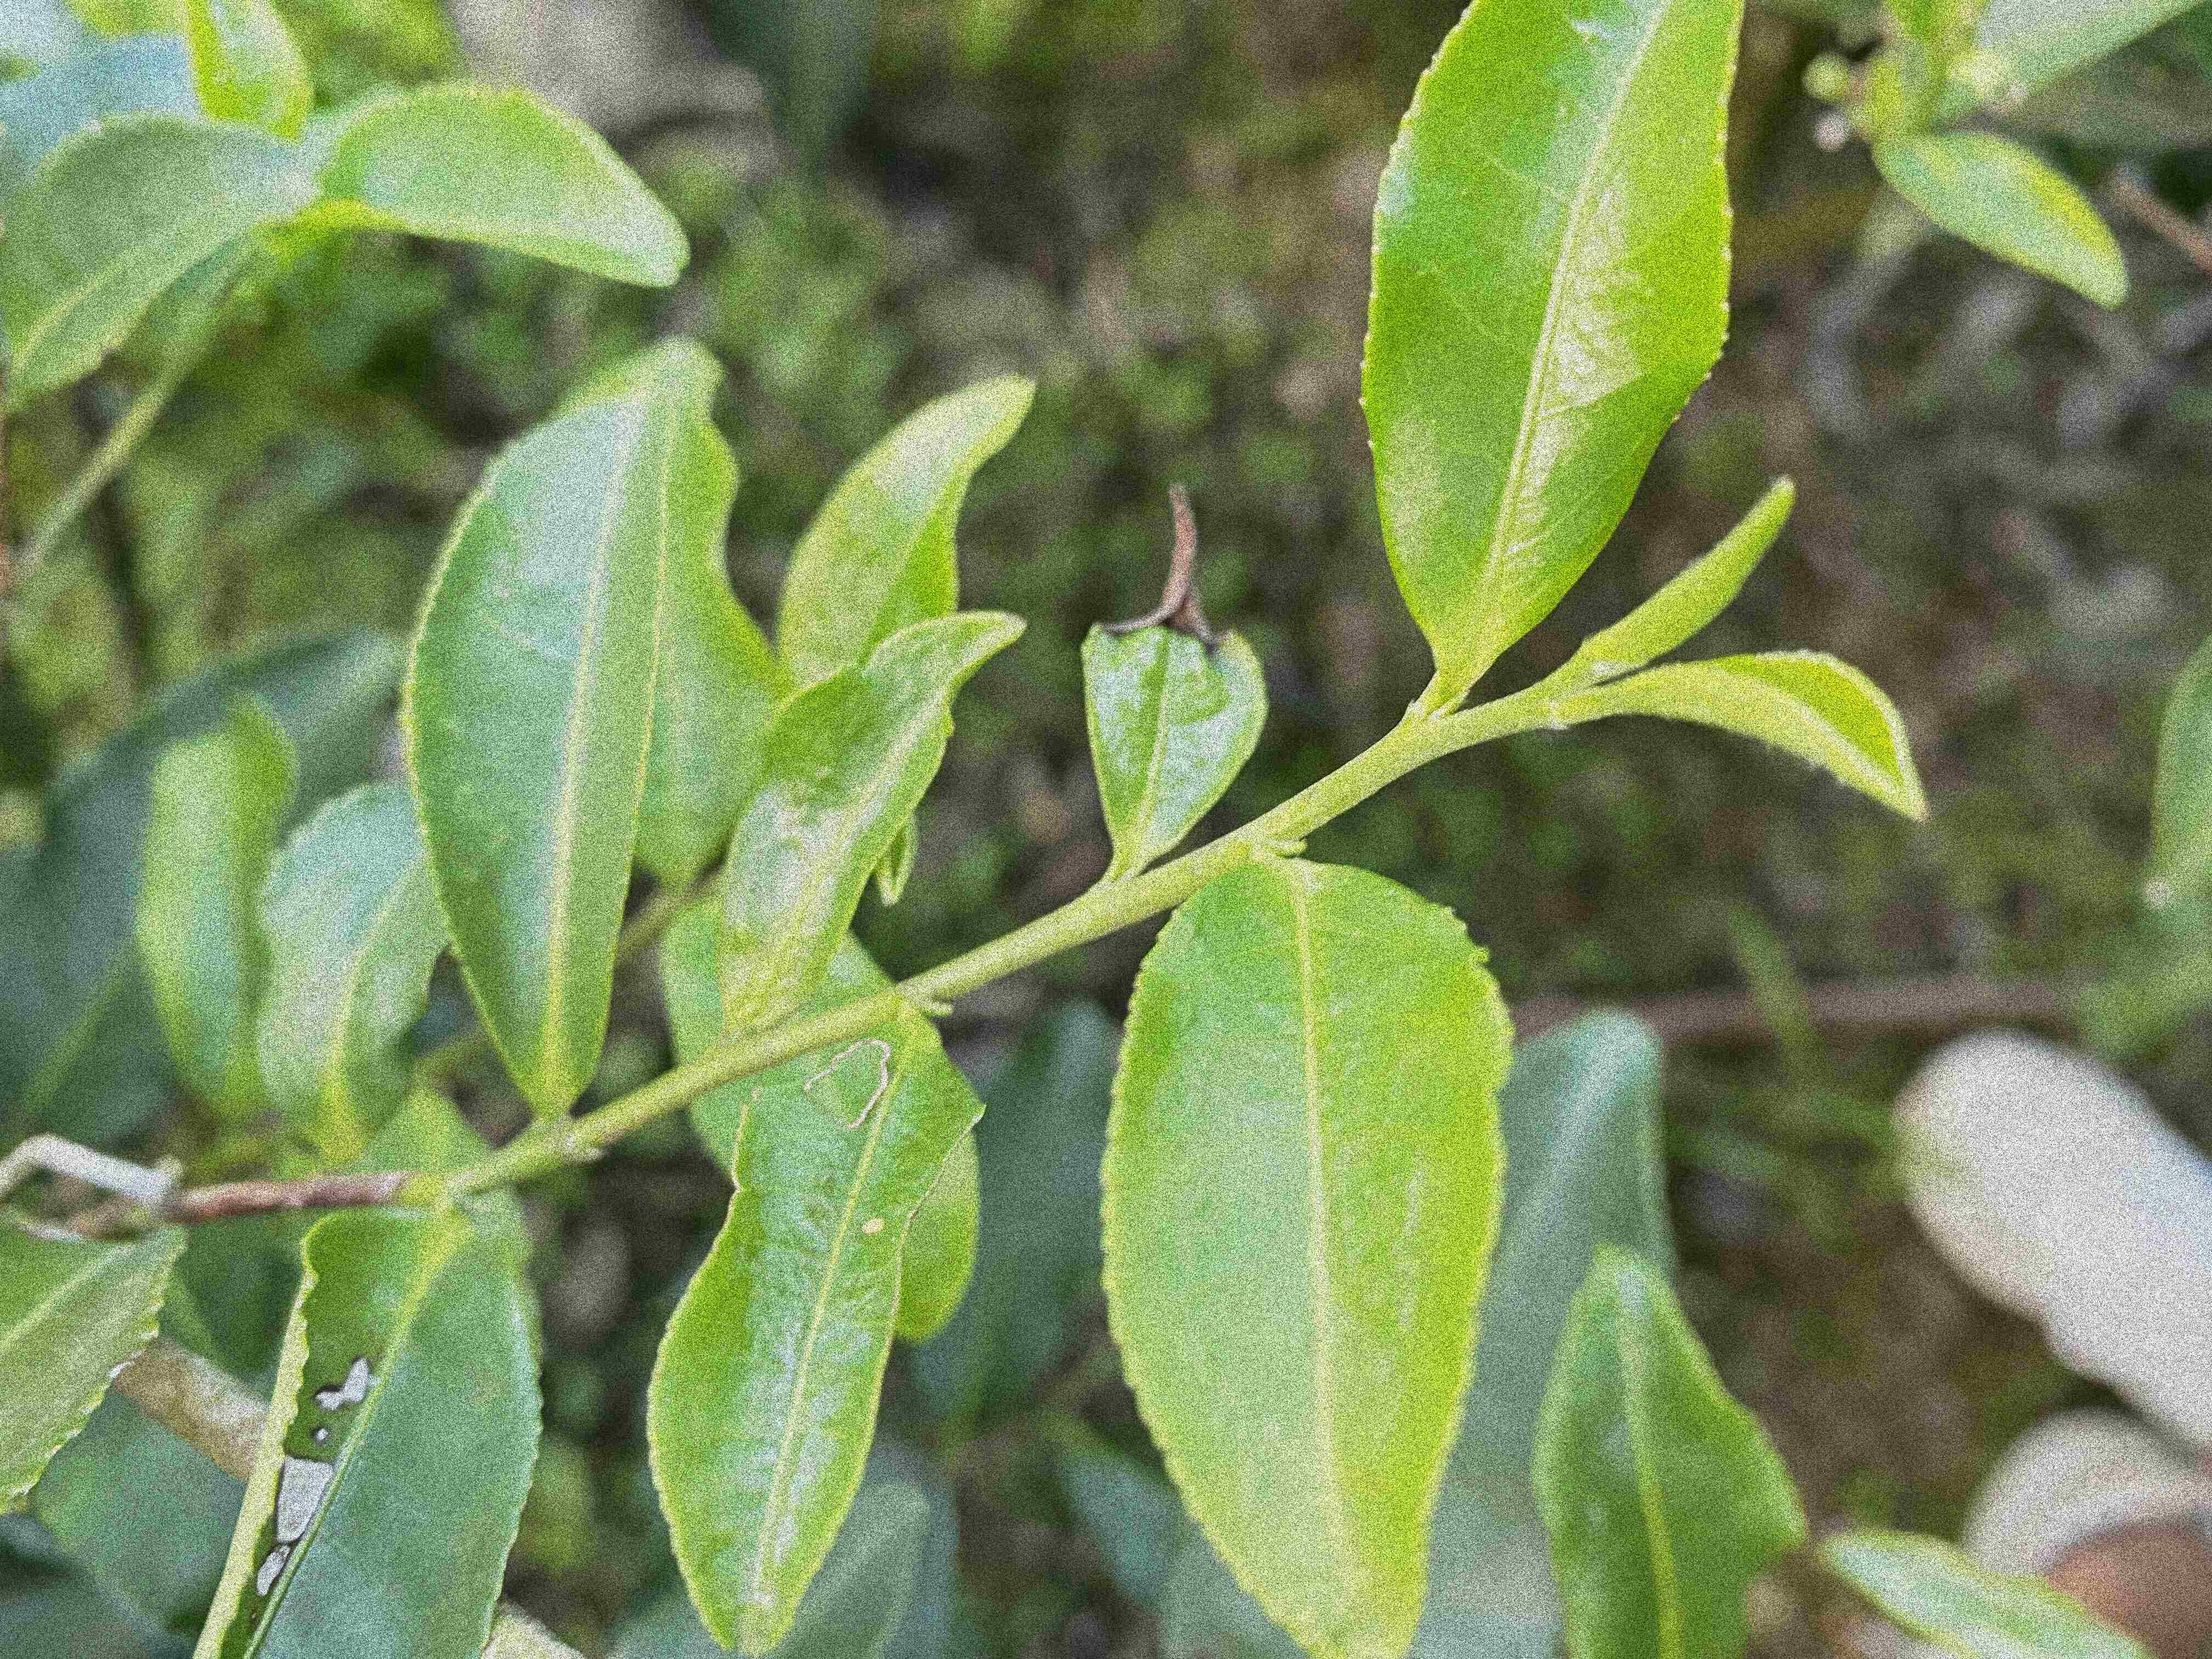chihuo_low: (639, 1016, 984, 1656)
healthy: (1097, 856, 1517, 1657), (1359, 3, 1747, 687), (392, 387, 681, 1124)
tanju_high: (192, 1206, 549, 1657), (1078, 481, 1270, 859)
